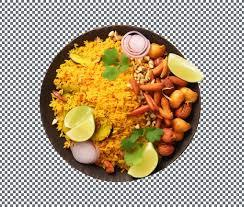poha: (46, 30, 148, 175)
